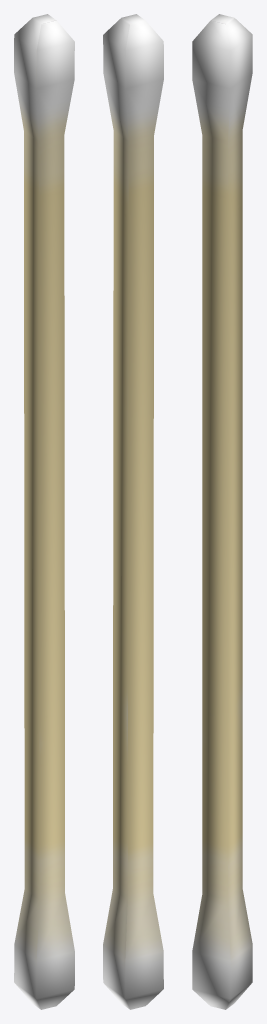
File: Tambong.fbx
3 views of the same model, side by side, from view 1: azimuth 30°, elevation 25°; view 2: azimuth 210°, elevation 25°; view 3: azimuth 330°, elevation 25° (orthographic).
Parts seen in each view (by area): view 1: Tambong; view 2: Tambong; view 3: Tambong.
Boxes of the visible parts, box(x1,y1,x2,y2) form: Tambong: box(14, 14, 74, 1009); Tambong: box(103, 14, 163, 1009); Tambong: box(192, 14, 252, 1009).
Size of the model in its own units: 0.446 by 10.84 by 0.4474.
1 material, 1 textured.
